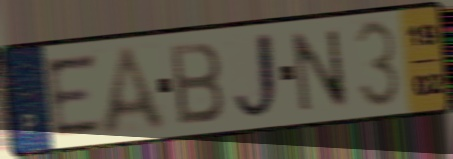3: (351, 17, 402, 112)
A: (98, 43, 172, 139)
B: (167, 38, 227, 128)
E: (42, 50, 107, 140)
J: (230, 29, 285, 124)
N: (289, 27, 352, 115)
